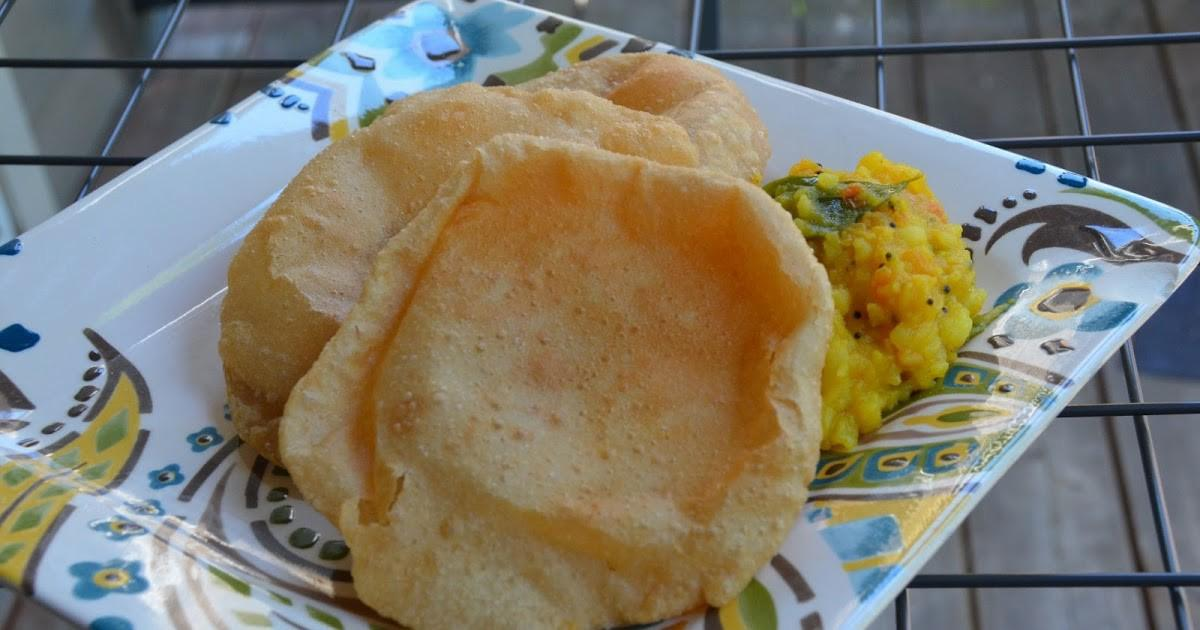Bhatura: (280, 133, 834, 630), (218, 84, 703, 467), (523, 54, 770, 182)
